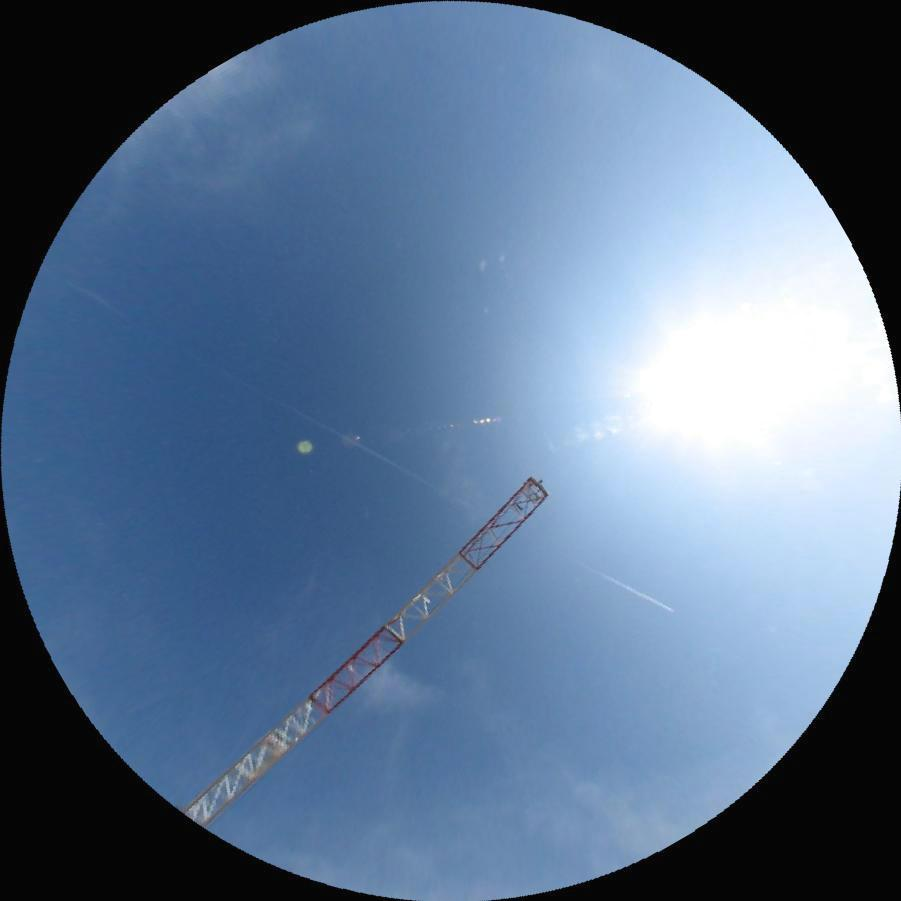contrail young: (38, 265, 675, 617)
sun: (611, 251, 876, 490)
